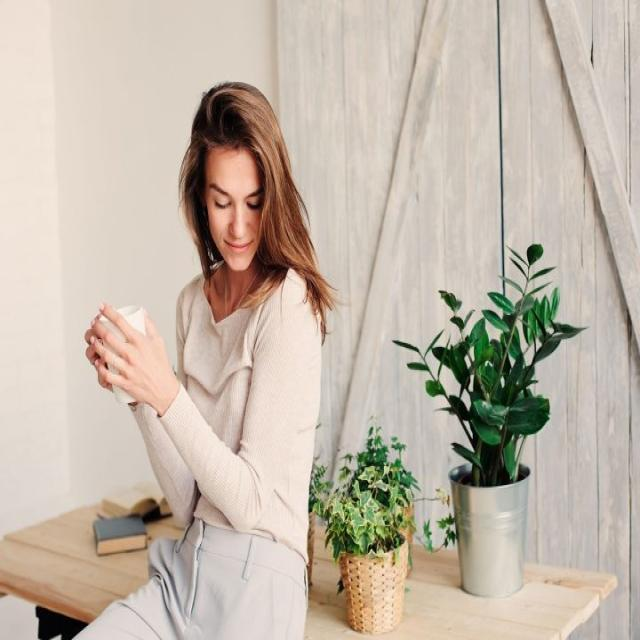sit: (54, 84, 331, 640)
